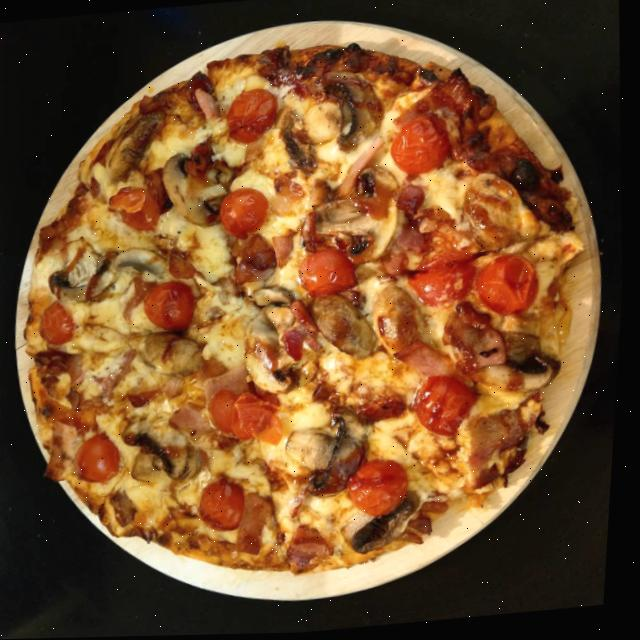mushrooms: (308, 165, 408, 267), (298, 401, 377, 500), (128, 404, 208, 493), (240, 289, 302, 399), (323, 70, 390, 157), (98, 111, 170, 183), (311, 290, 382, 361), (44, 245, 125, 305), (346, 500, 430, 556), (486, 351, 567, 401), (138, 328, 206, 380), (280, 110, 322, 182), (113, 241, 177, 284)
pizza: (0, 21, 617, 598)
tomatoes: (406, 370, 484, 443), (210, 384, 291, 451), (386, 112, 454, 178), (475, 253, 544, 318), (349, 456, 417, 520), (222, 84, 284, 151), (298, 244, 365, 299), (198, 476, 260, 534), (410, 263, 485, 310), (73, 428, 132, 486), (143, 277, 203, 334), (218, 183, 276, 241), (107, 183, 169, 234), (420, 225, 481, 269), (32, 298, 82, 346)
